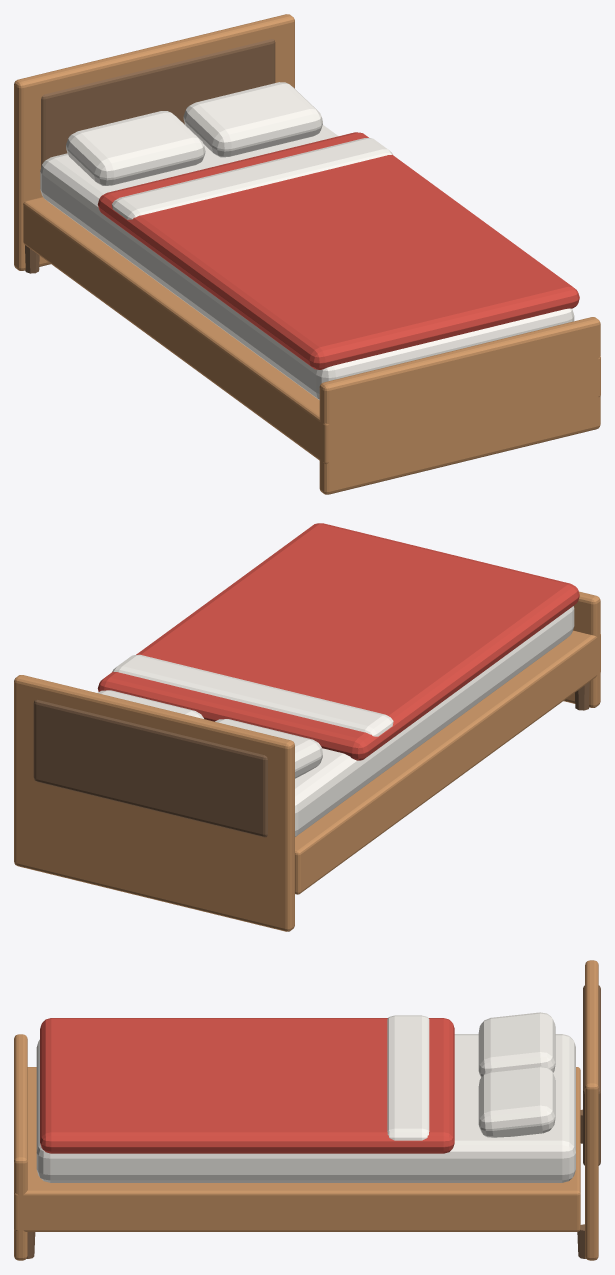
The model's file is bed.glb.
3 renders of one model, top to bottom at view 1: azimuth 30°, elevation 25°; view 2: azimuth 150°, elevation 25°; view 3: azimuth 270°, elevation 25°, orthographic. The views are drawn at different scales.
Visible parts, largest first — view 1: bed; view 2: bed; view 3: bed.
Boxes of the visible parts, x1,y1,x2,y2 form: bed: (14,14,600,494); bed: (14,523,600,931); bed: (14,960,600,1260).
Size of the model in its own units: 1.32 by 0.86 by 2.59.
